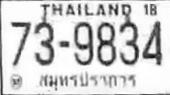3: (33, 20, 54, 65), (119, 20, 138, 64)
4: (142, 20, 162, 65)
7: (10, 20, 30, 66)
8: (96, 21, 115, 65)
9: (73, 21, 93, 65)
SPK: (38, 71, 137, 91)
